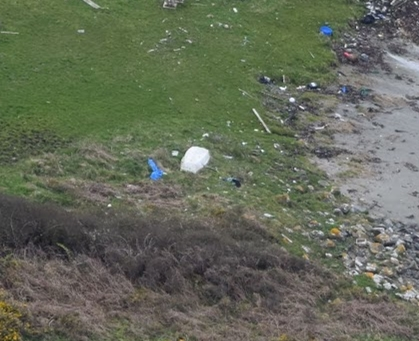scattered_barrel: (139, 129, 248, 195), (249, 63, 350, 100)
tube: (248, 104, 276, 137)
white_in_green: (304, 9, 349, 50)
